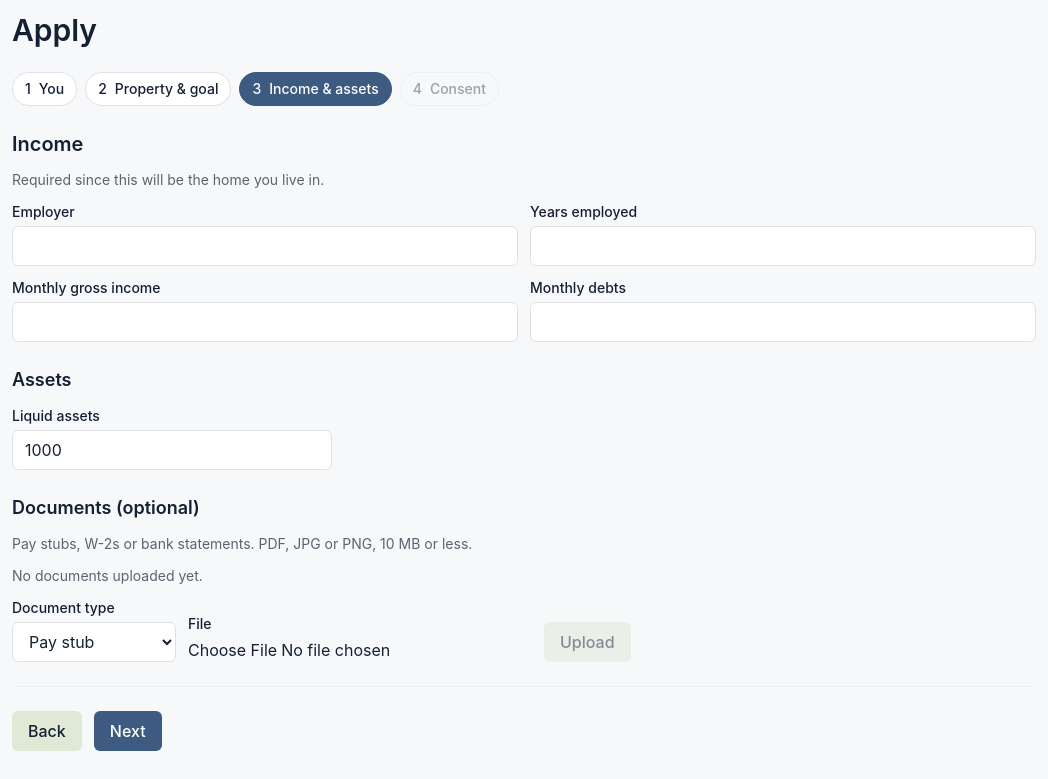
Test: ApplyWizard › a Stepper click within 1s flushes the pending edit before switching tabs
Replace the text in the field labelled "Liquid assets" with "7500": [172, 450] box [12,430,332,470]
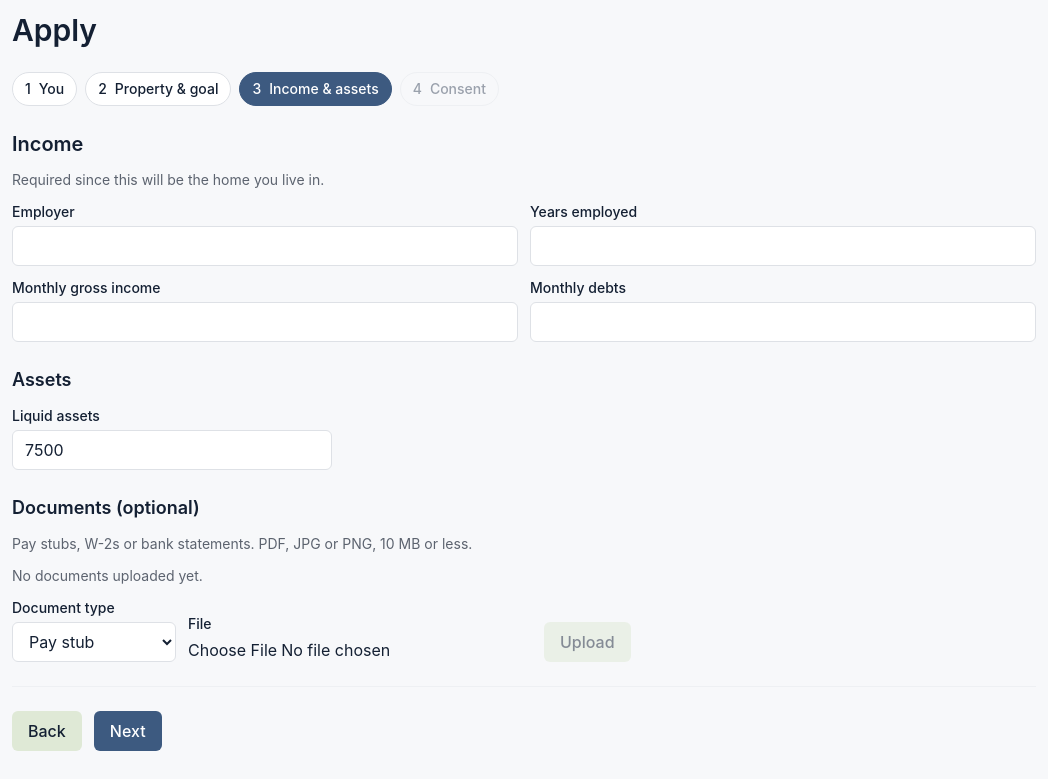
Click the button "1 You": [45, 89] box [12,72,77,106]
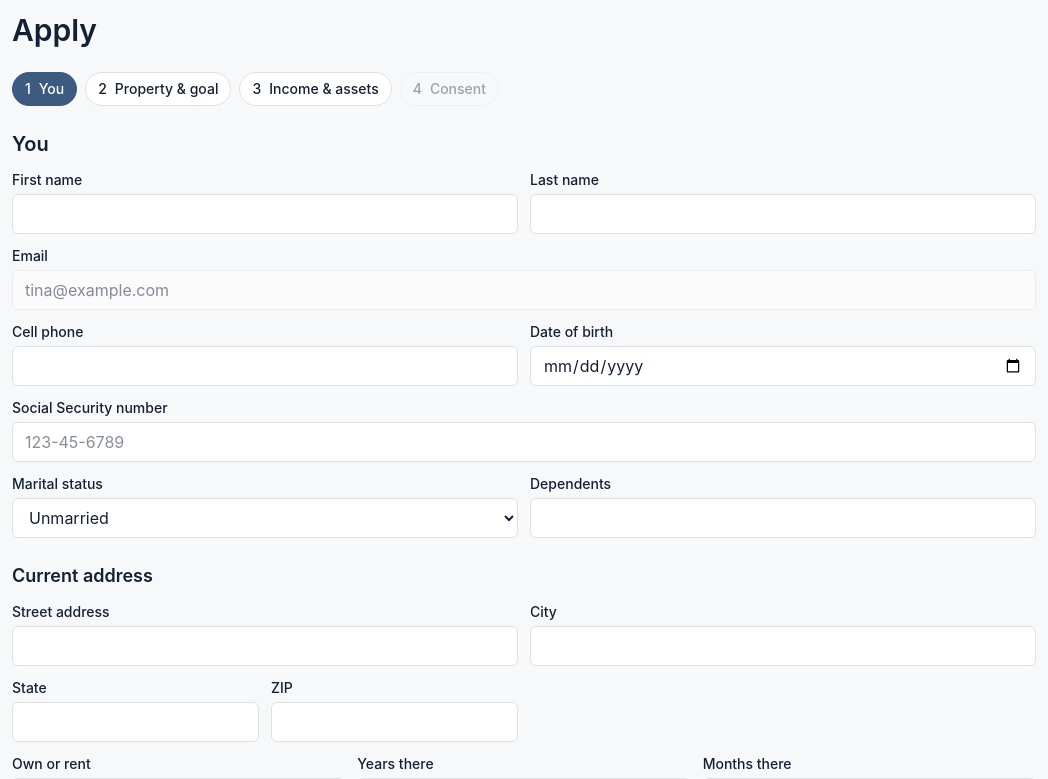
Expected: the heading "You" is shown, [12,132,49,156]
